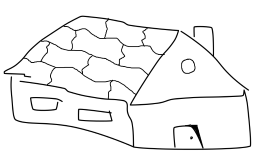big_house: (0, 0, 260, 160)
chimney: (191, 18, 220, 61)
door: (166, 121, 209, 155)
open_window: (22, 92, 64, 117), (74, 105, 120, 127), (175, 55, 205, 79)
roof: (3, 10, 250, 105)
wall: (125, 88, 253, 152)
